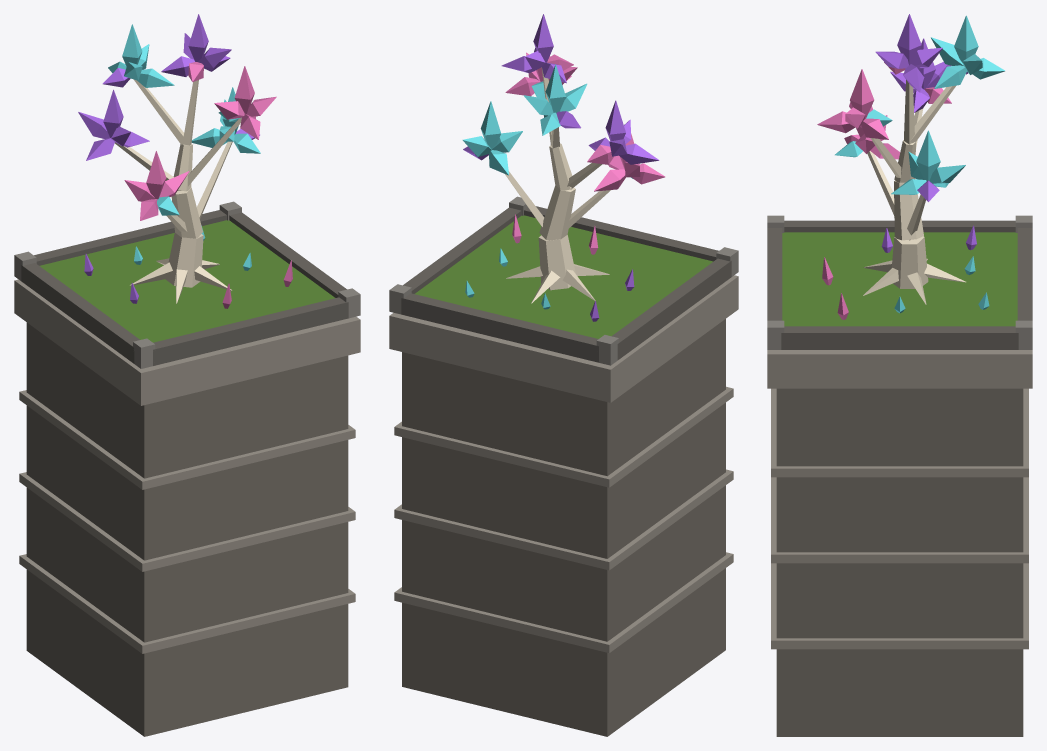
File: decor_crystal_tree.glb
3 renders of one model, left to right at view 1: azimuth 30°, elevation 25°; view 2: azimuth 150°, elevation 25°; view 3: azimuth 270°, elevation 25°, orthographic. The views are drawn at different scales.
Visible parts, largest first — view 1: decor_crystal_tree; view 2: decor_crystal_tree; view 3: decor_crystal_tree.
Boxes of the visible parts, left/top/right/bottom form: decor_crystal_tree: left=14, top=14, right=360, bottom=736; decor_crystal_tree: left=389, top=14, right=738, bottom=736; decor_crystal_tree: left=767, top=14, right=1032, bottom=736.
Bounding box in the file's own units: 2.8 × 7.9 × 2.8.
